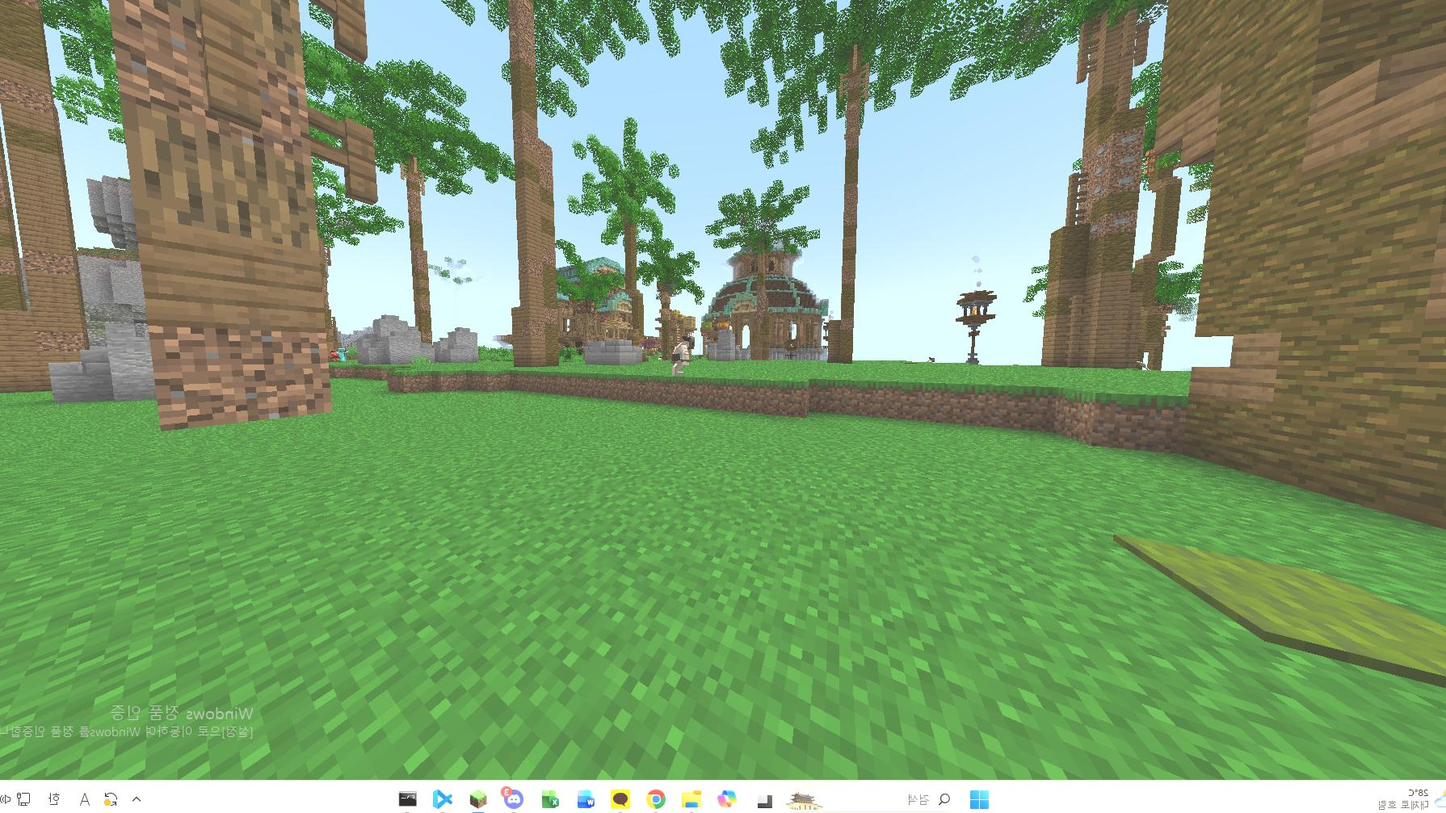bow_indian: (644, 314, 708, 387)
